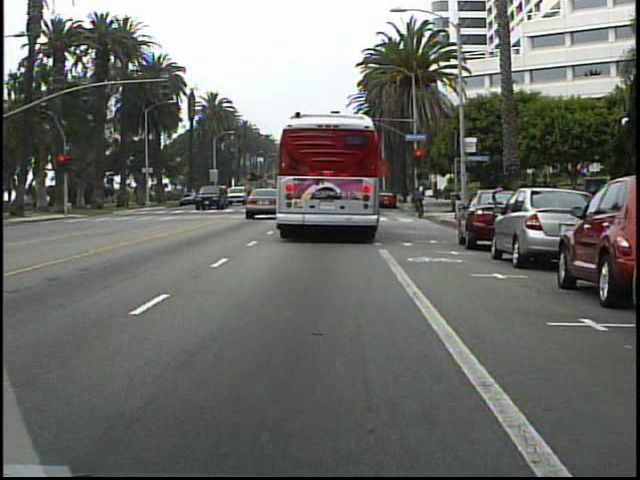person: (408, 181, 428, 216)
